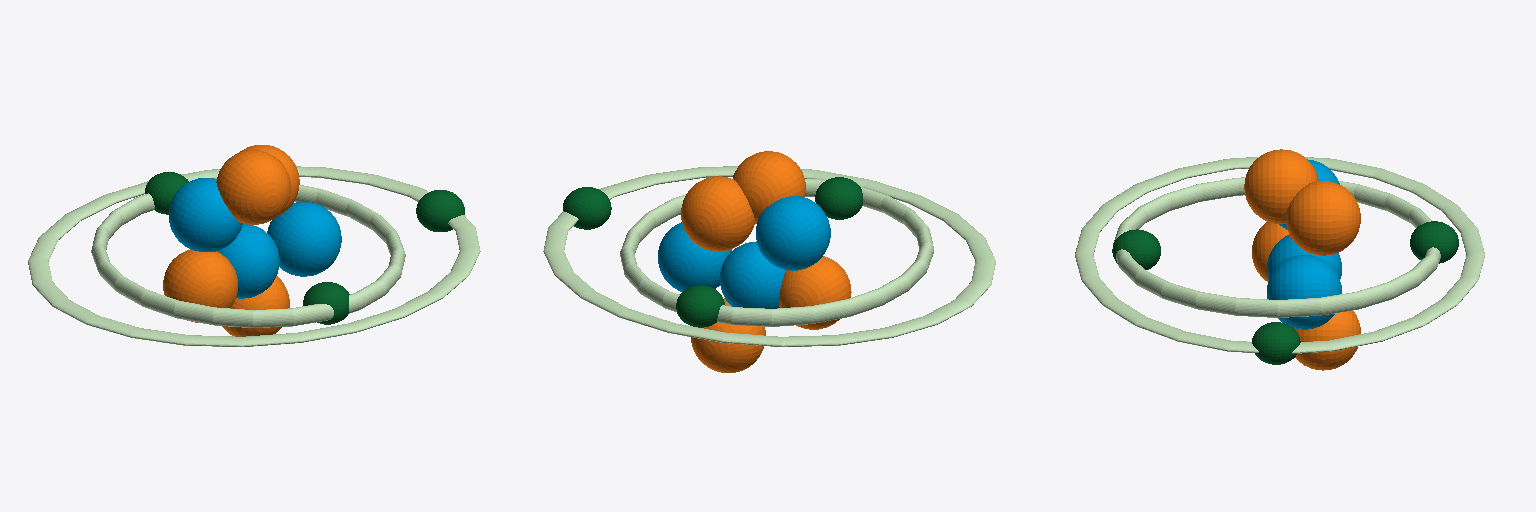
File: tinker.obj
3 views of the same model, side by side, from view 1: azimuth 30°, elevation 25°; view 2: azimuth 150°, elevation 25°; view 3: azimuth 270°, elevation 25° (orthographic).
Visible parts, largest first — view 1: obj_0; view 2: obj_0; view 3: obj_0.
Part boxes in pixels (left/top/right/bottom): obj_0: left=28, top=145, right=480, bottom=346; obj_0: left=543, top=151, right=995, bottom=372; obj_0: left=1075, top=149, right=1484, bottom=370.
Bounding box in the file's own units: 125 × 60 × 109.